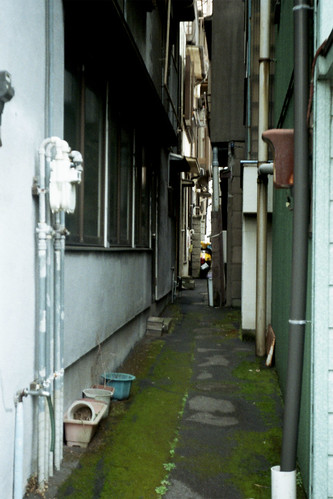building: (1, 1, 178, 483), (206, 11, 333, 499)
